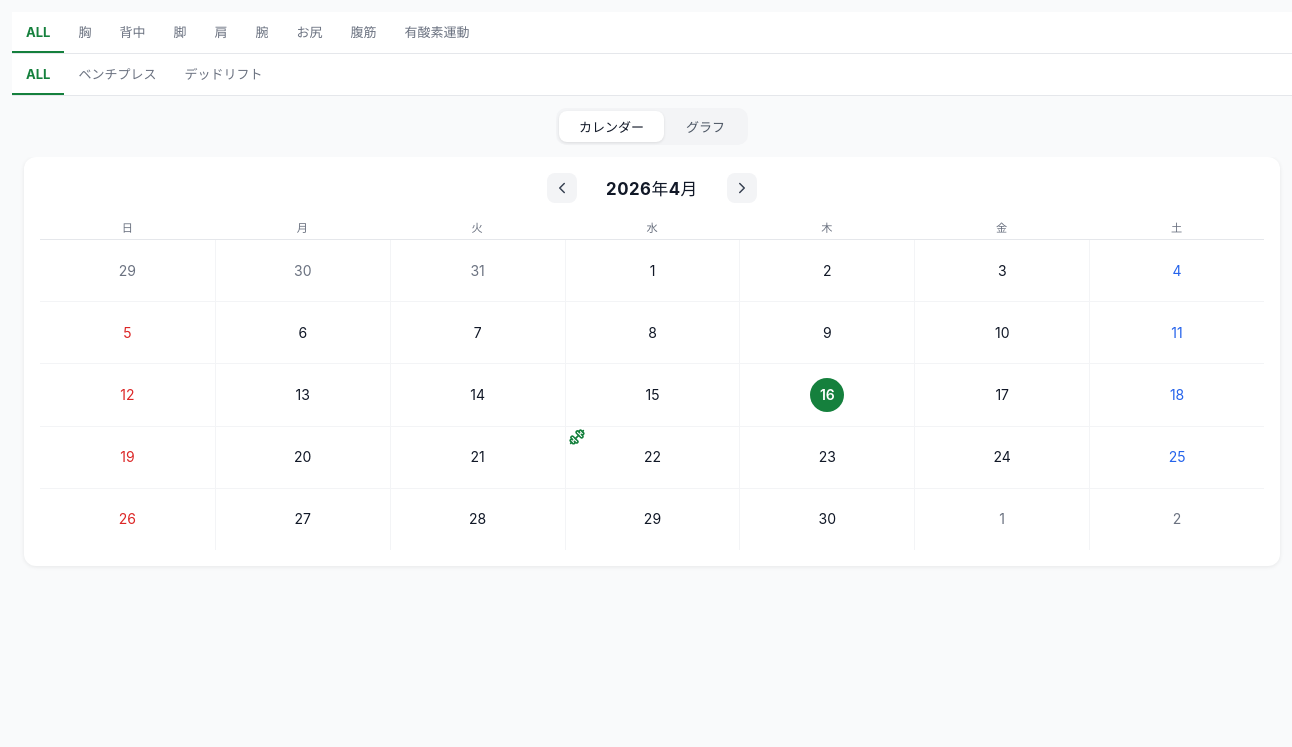
Test: HistoryPage - ビュー切り替え › 「グラフ」ボタンクリックでグラフビューに切り替わる
This screenshot has width=1292, height=747.
What coordinates should you click on to do the following:
click the button "グラフ"
I would click on:
 (706, 126)
Its box is [666,111,745,142].
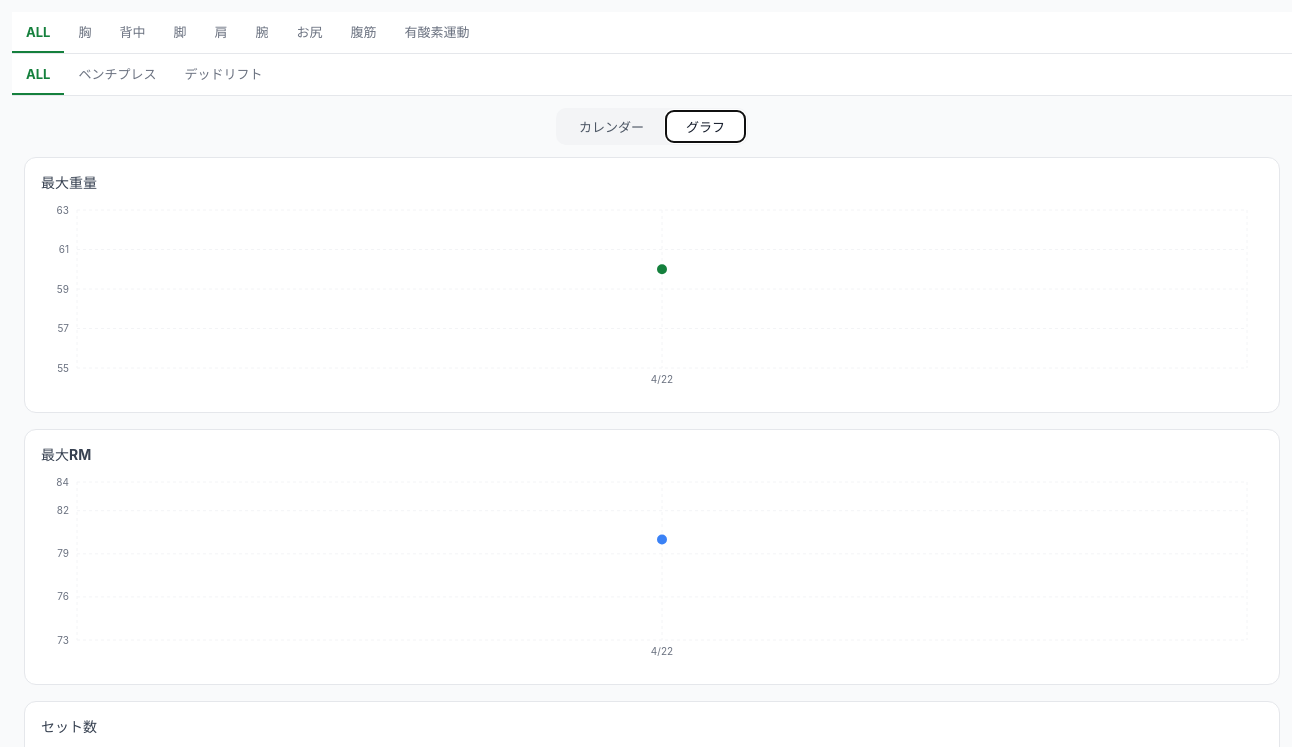
Expected: the text "日" is gone
